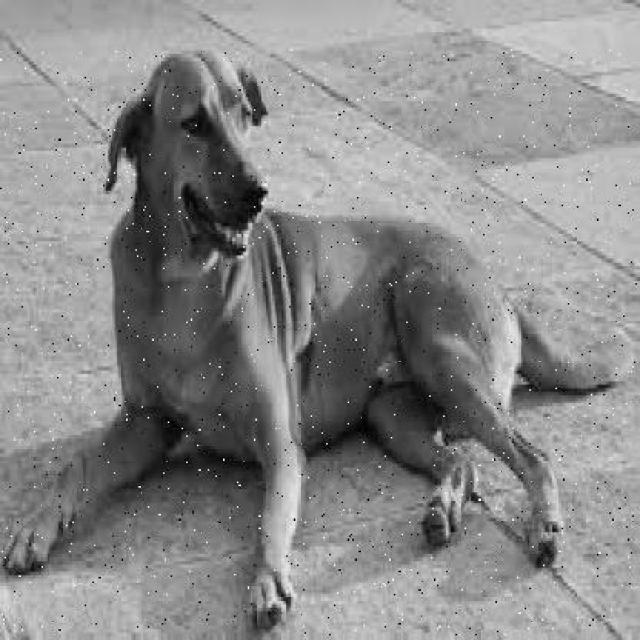Dog: (0, 49, 638, 636)
